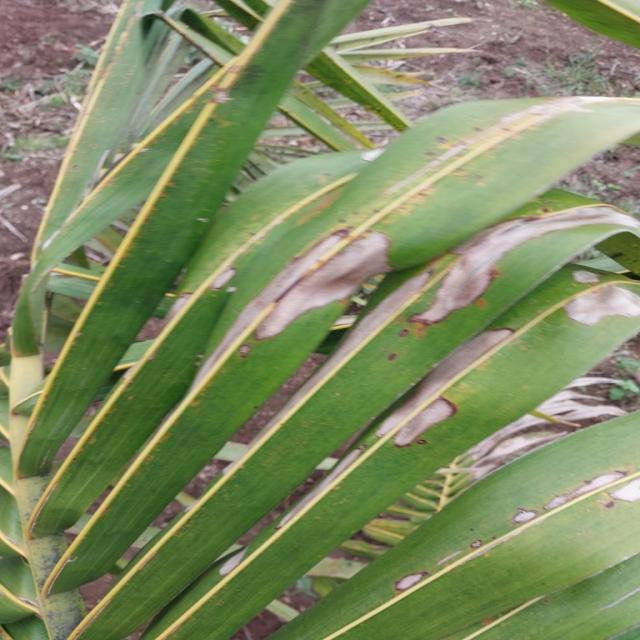gray leaf spot: (234, 198, 626, 455)
